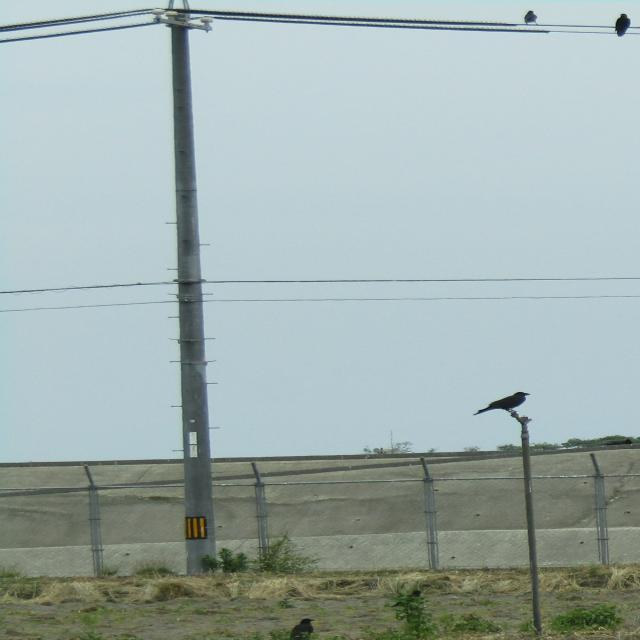pole: (152, 4, 241, 598)
